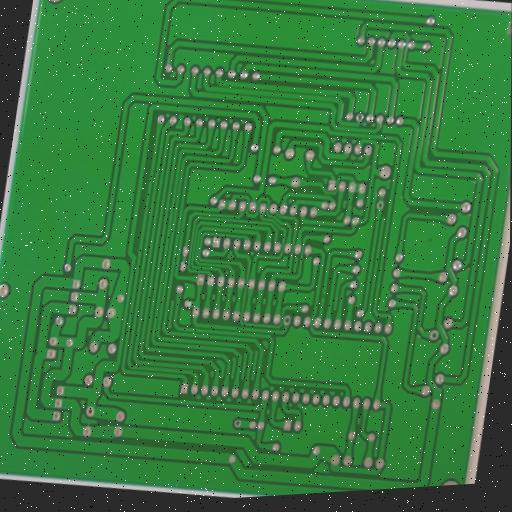missing_hole: (428, 327, 441, 342), (281, 312, 294, 327), (374, 198, 386, 212), (232, 416, 243, 430), (355, 111, 365, 123)
